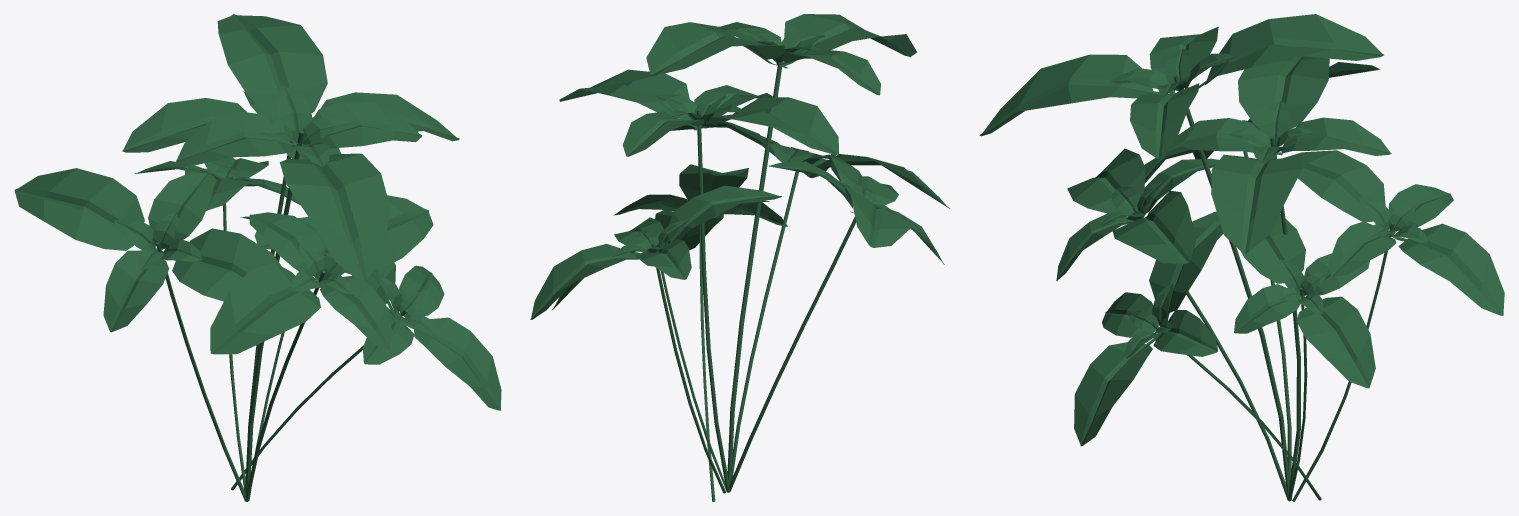
The model's file is mod_vg_oreganoM.fbx.
The picture shows the model from 3 angles, left to right: view 1: azimuth 30°, elevation 25°; view 2: azimuth 150°, elevation 25°; view 3: azimuth 270°, elevation 25°; orthographic projection. The views are drawn at different scales.
Visible parts, largest first — view 1: Mint; view 2: Mint; view 3: Mint.
Part boxes in pixels (<box>): Mint: <box>14,14,501,501</box>; Mint: <box>530,14,950,501</box>; Mint: <box>979,14,1504,501</box>.
Bounding box in the file's own units: 115 × 131 × 130.
